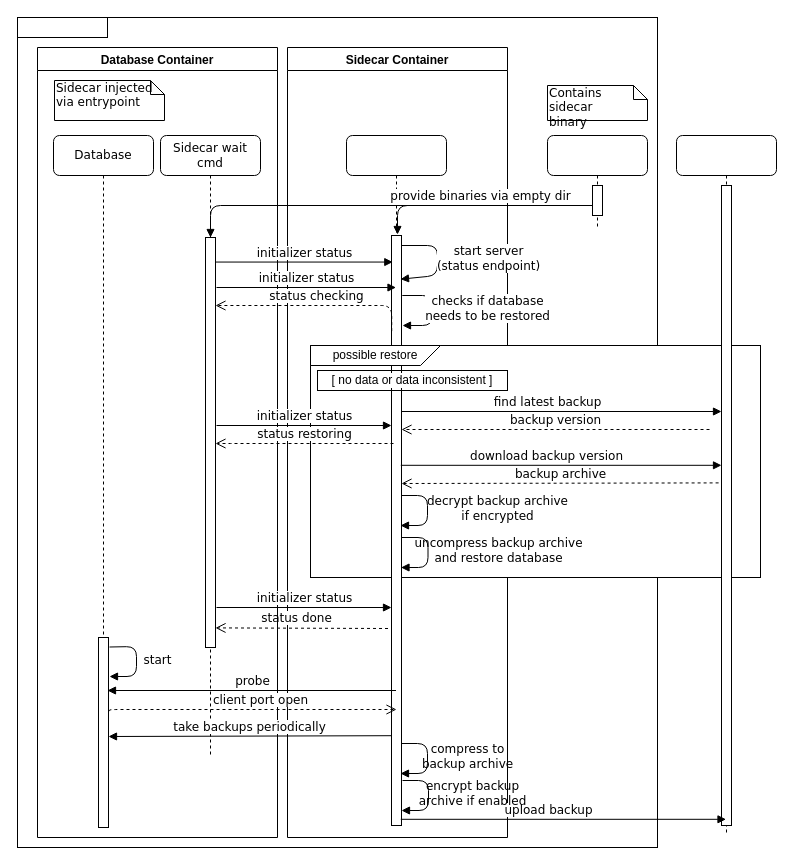
This 794x865 diagram has some shape labels left out. The shapes that lost their labels are listed below. From the top down, each one's box as (x1, y1, x2, y2) in pixels, then its label:
(16, 16, 108, 38): Database Pod
(546, 134, 648, 228): Init Container
(346, 134, 446, 826): Sidecar start cmd
(676, 134, 776, 836): Backup Provider
